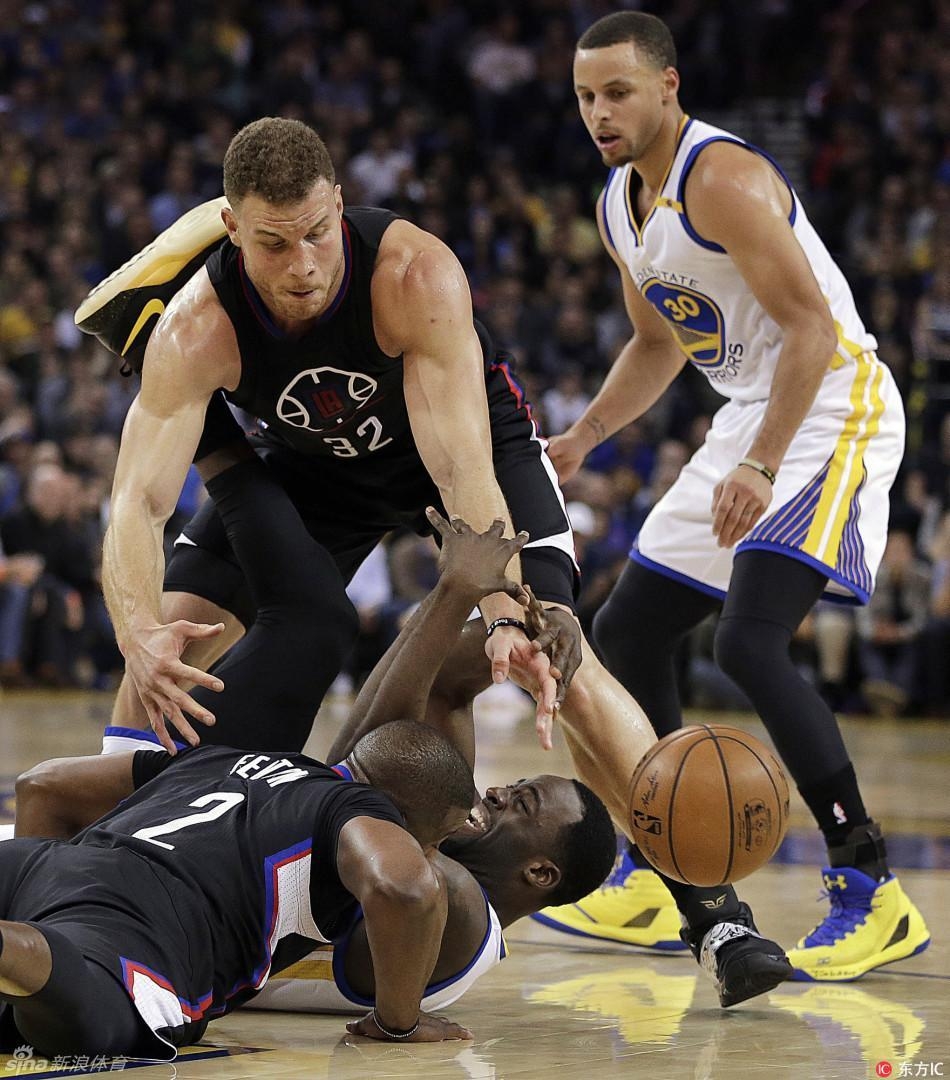Fall-Detected: (0, 709, 635, 1077)
